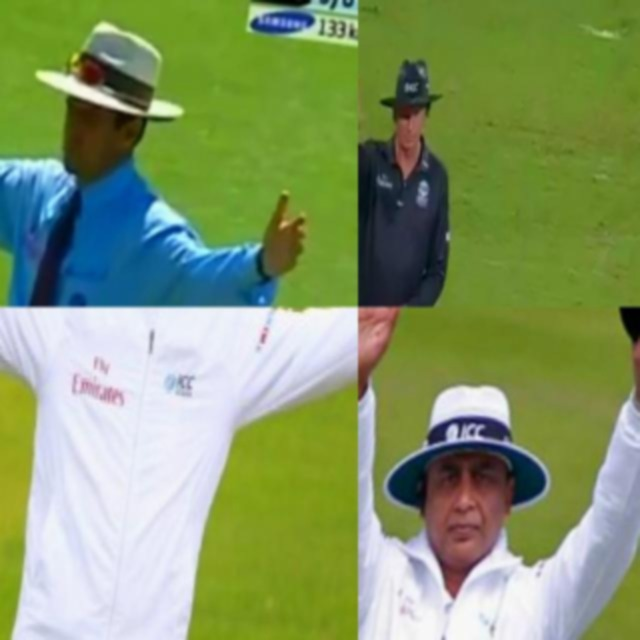Out: (358, 39, 483, 307)
Six: (358, 307, 640, 640)
Wide: (0, 307, 358, 640), (0, 0, 335, 307)
